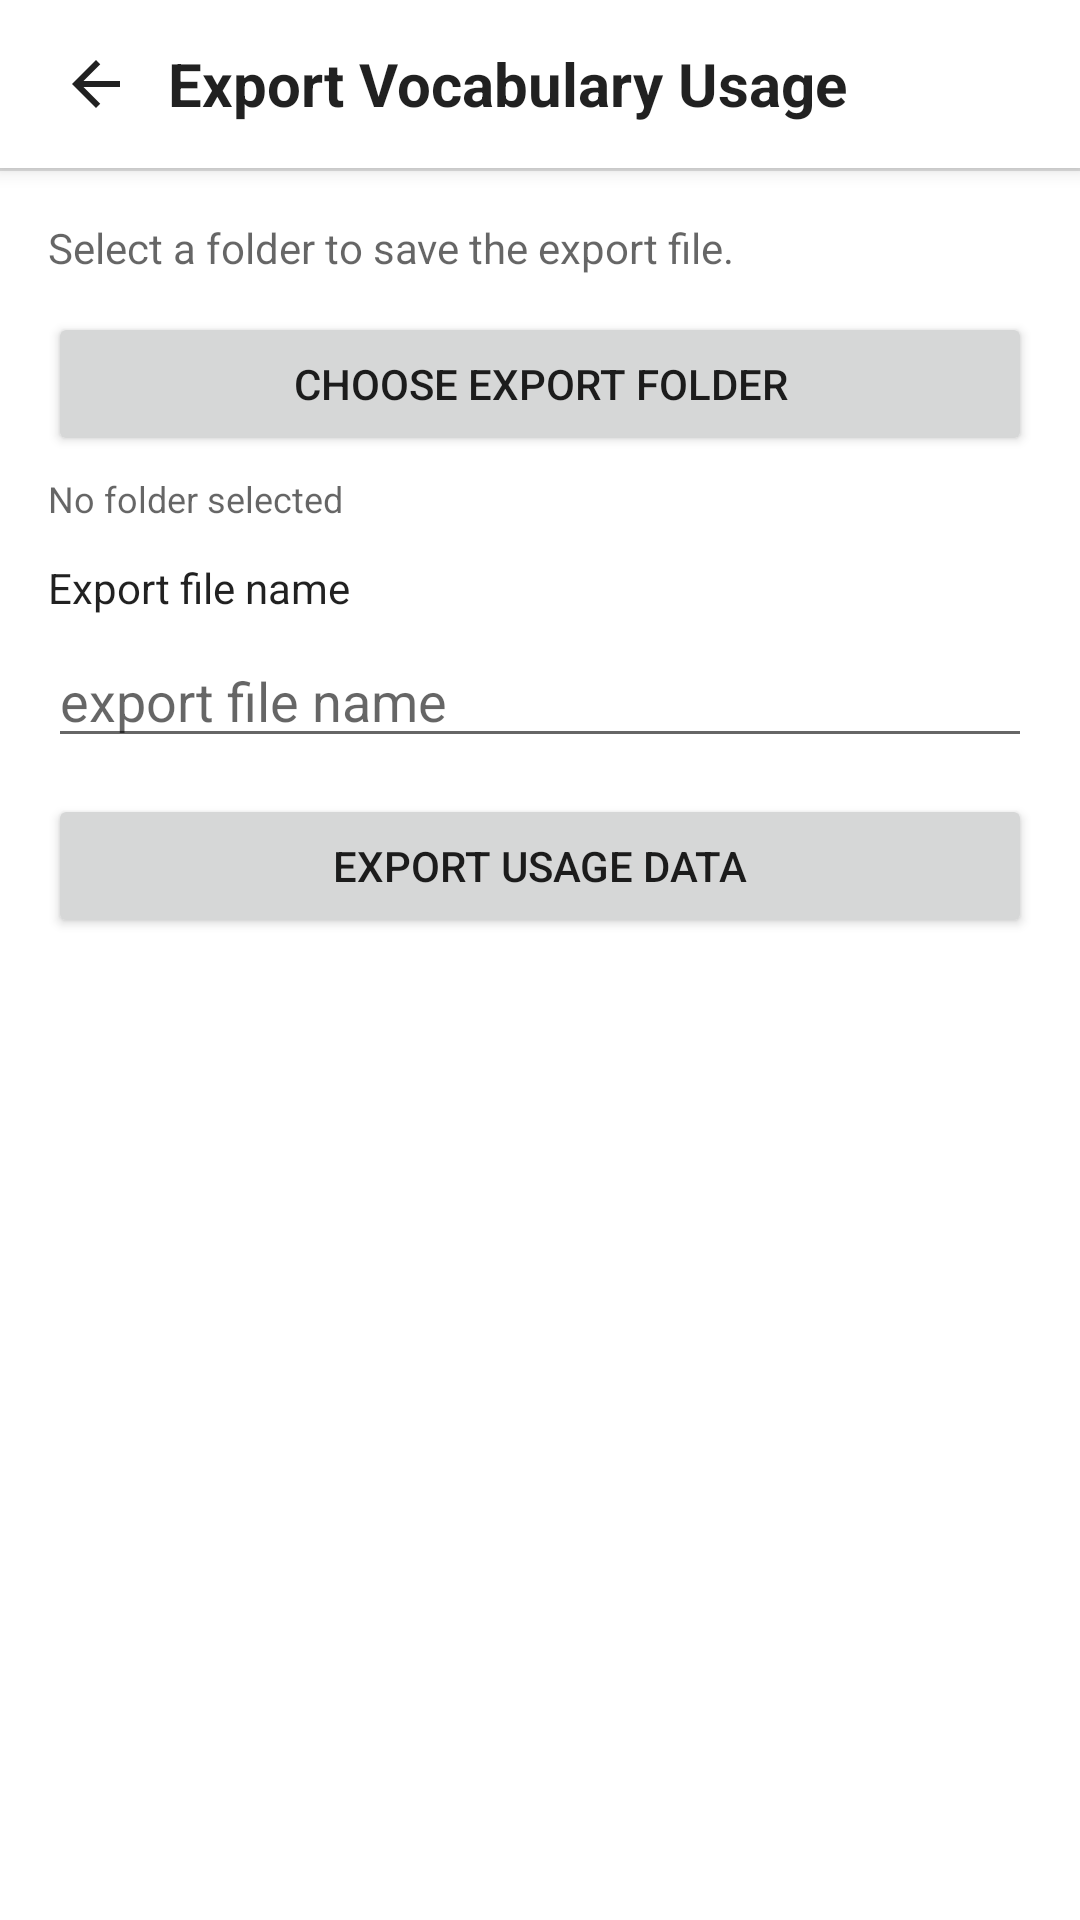

Where to tap for icons on this 1080*1920 app screen, as (x,y):
Back: (96,84)
